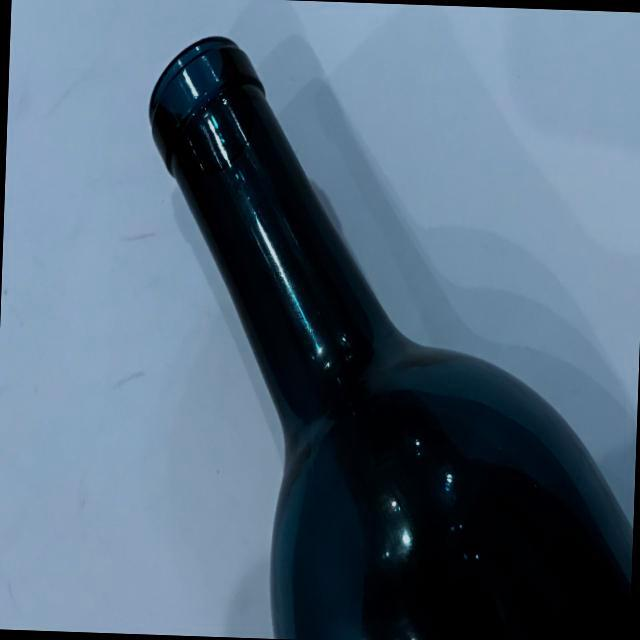glass: (121, 24, 640, 640)
